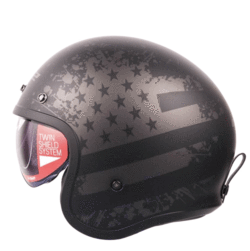with_helmet: (9, 35, 250, 242)
